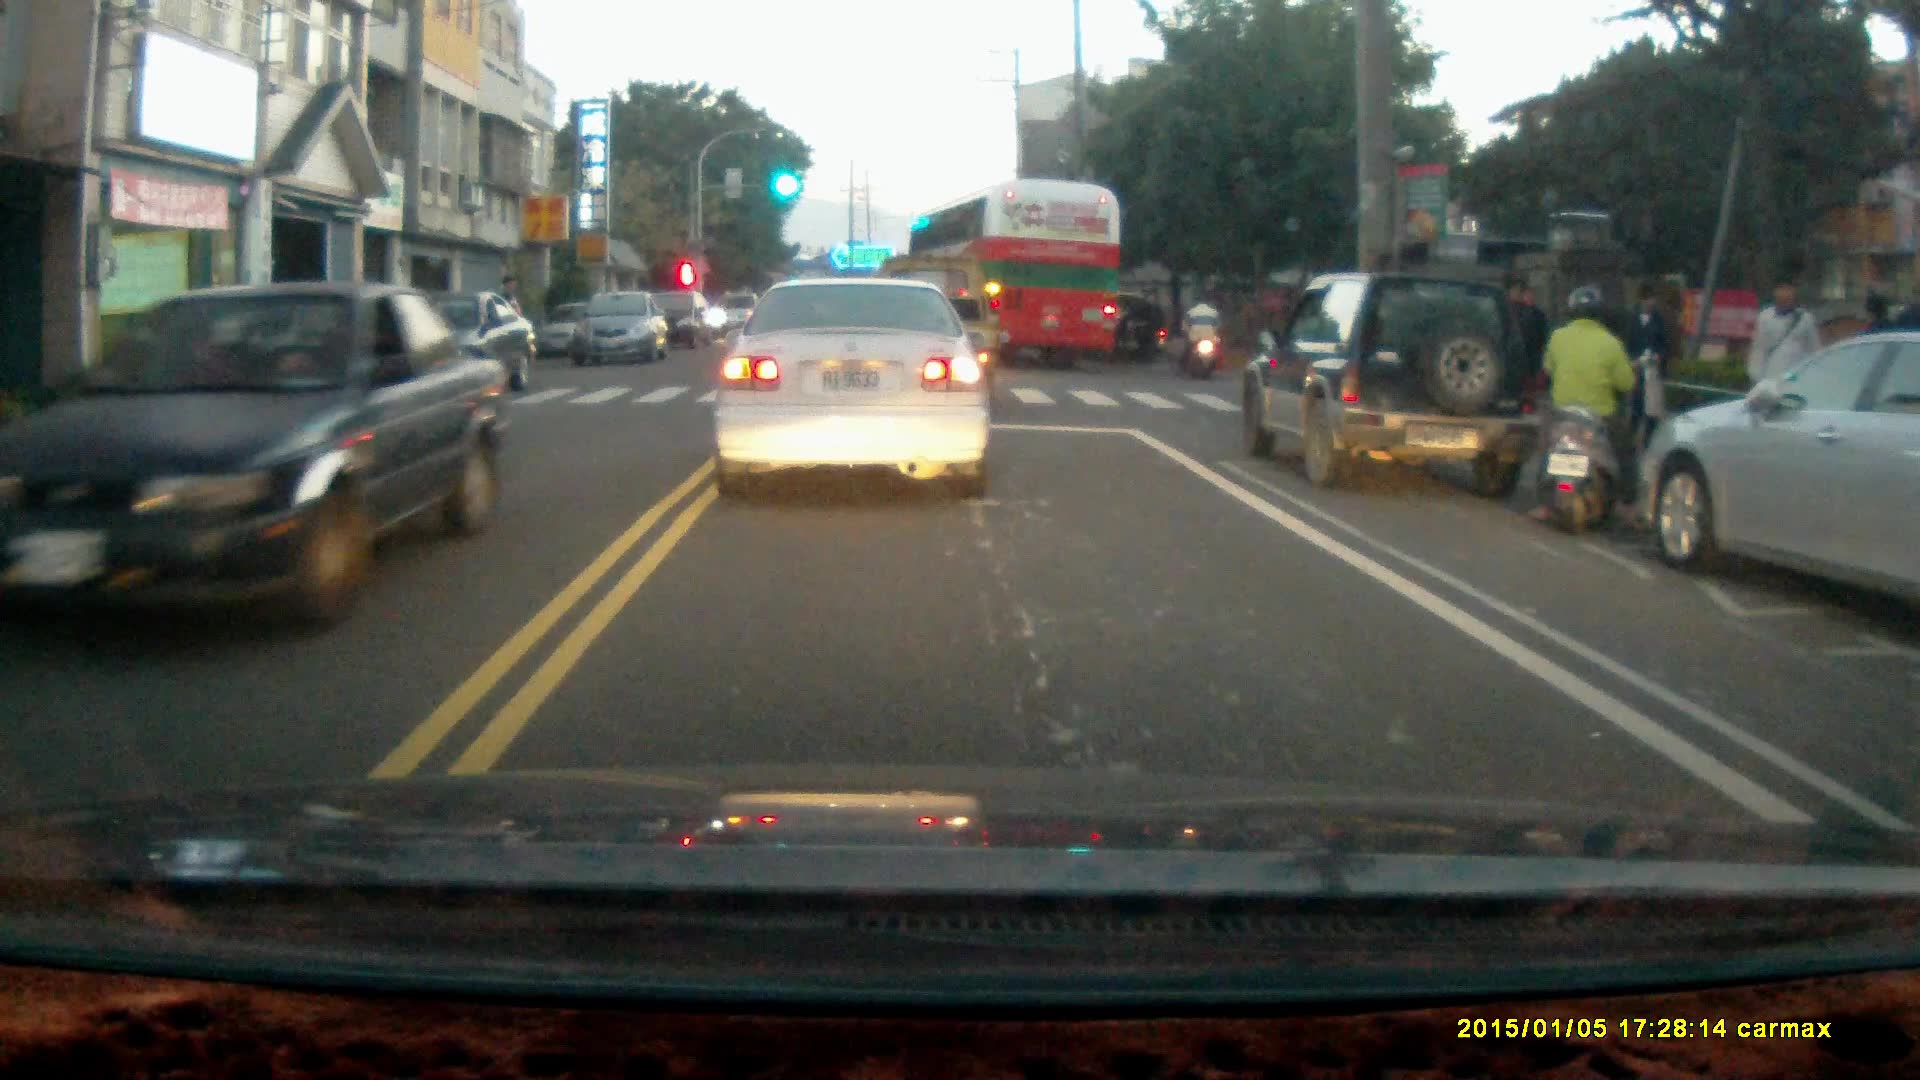pedestrian: (1746, 270, 1824, 445), (1615, 281, 1672, 453)
rider: (1528, 285, 1652, 533), (1106, 291, 1171, 365), (1179, 288, 1222, 377)
vehicle: (11, 280, 507, 644), (1641, 334, 1920, 631), (1237, 273, 1547, 496), (709, 272, 997, 503), (900, 179, 1133, 376), (575, 292, 670, 369), (634, 286, 720, 355)
